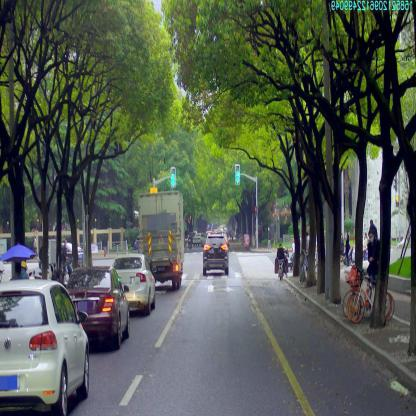traffic-light: (235, 164, 240, 185), (171, 167, 175, 187)
